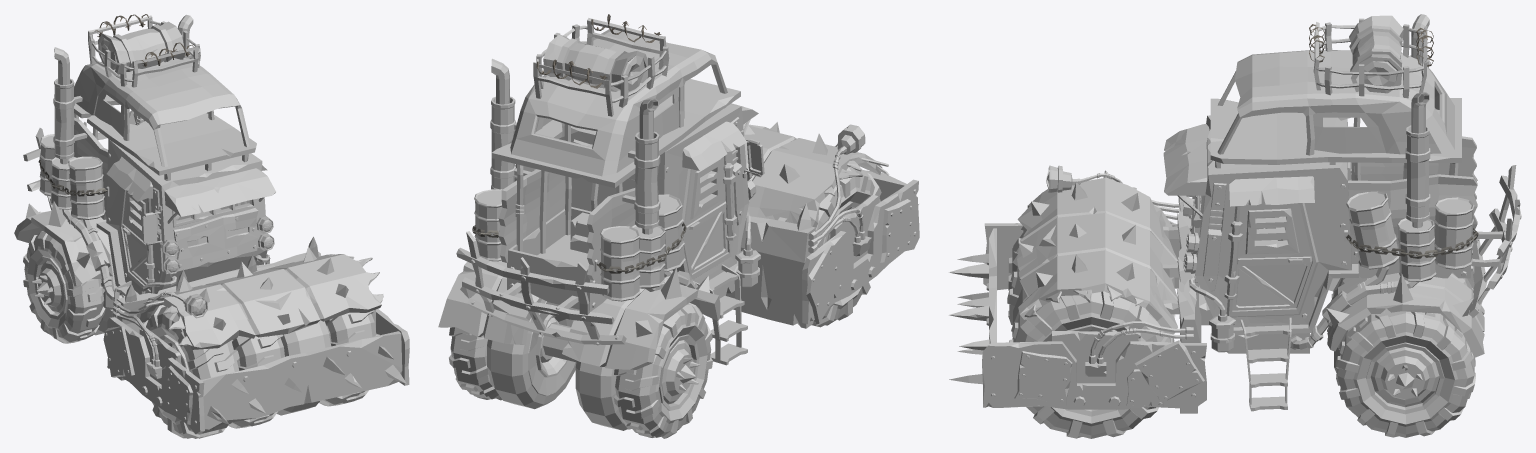
File: SM_Veh_Scream_Roller_01.fbx
The picture shows the model from 3 angles, left to right: view 1: azimuth 30°, elevation 25°; view 2: azimuth 150°, elevation 25°; view 3: azimuth 270°, elevation 25°; orthographic projection. The views are drawn at different scales.
Parts seen in each view (by area): view 1: SM_Veh_Scream_Roller_01; view 2: SM_Veh_Scream_Roller_01; view 3: SM_Veh_Scream_Roller_01.
Part boxes in pixels (x1,y1,x2,y2): SM_Veh_Scream_Roller_01: [14, 14, 409, 438]; SM_Veh_Scream_Roller_01: [438, 14, 919, 438]; SM_Veh_Scream_Roller_01: [948, 14, 1521, 438].
Bounding box in the file's own units: 389 × 508 × 730.
